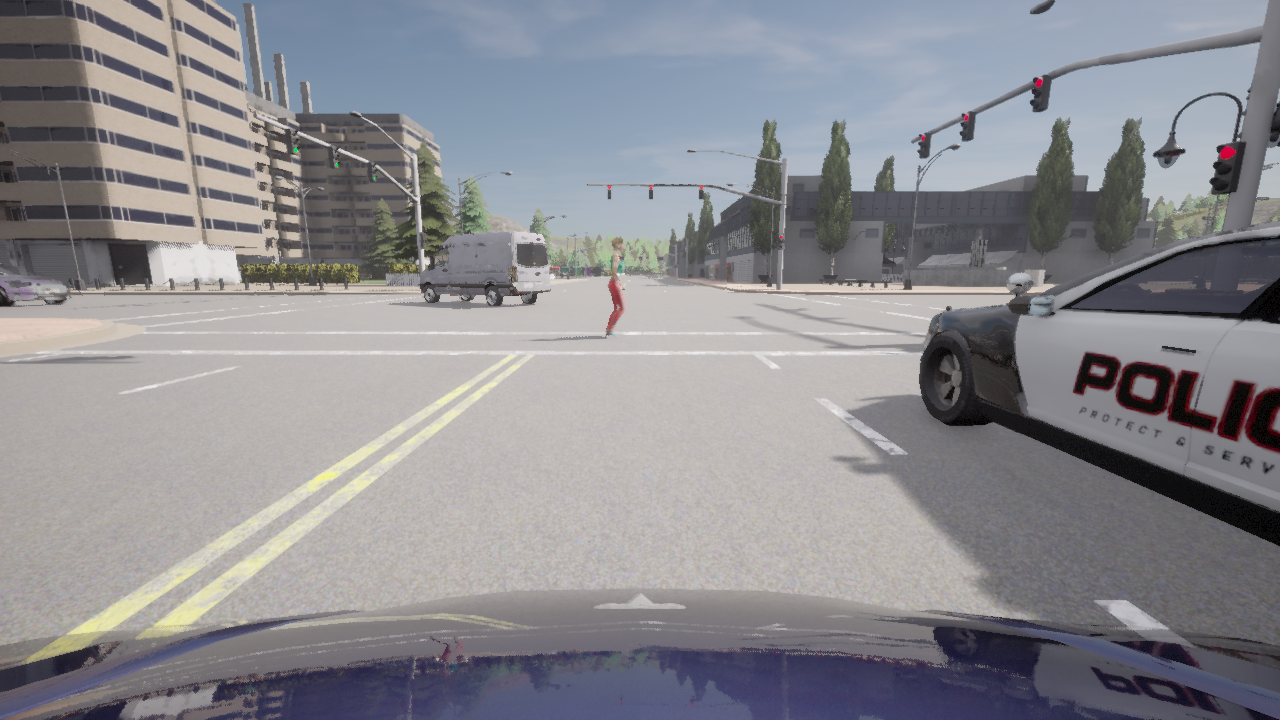cyclist: (0, 588, 1279, 719), (919, 222, 1279, 545), (418, 231, 551, 306), (550, 270, 565, 276), (565, 270, 574, 276), (558, 270, 565, 276), (574, 275, 575, 276)
pedestrian: (604, 237, 626, 338)
